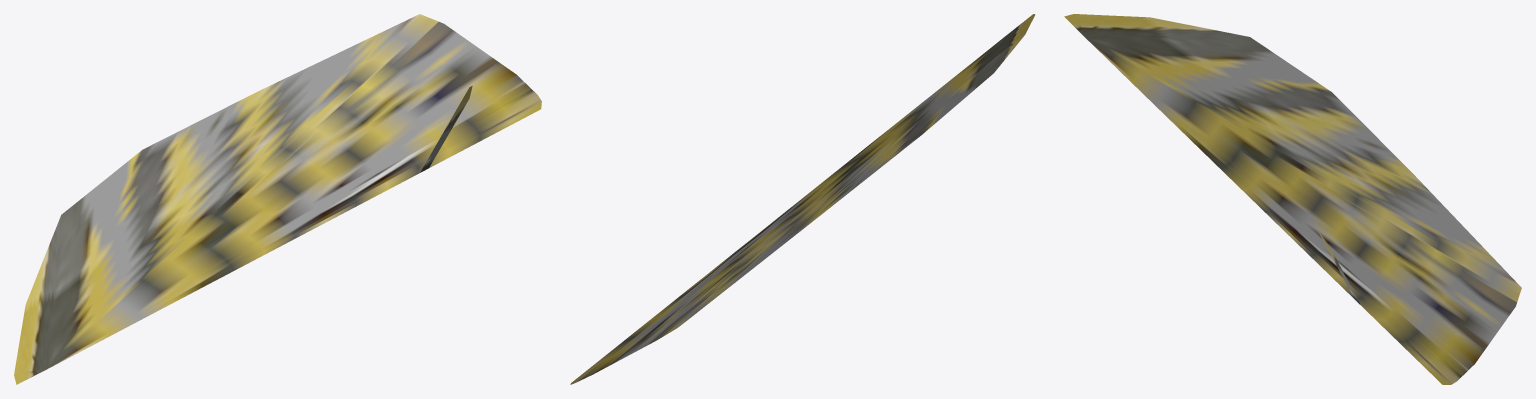
File: guard-center.glb
3 renders of one model, left to right at view 1: azimuth 30°, elevation 25°; view 2: azimuth 210°, elevation 25°; view 3: azimuth 270°, elevation 25°, orthographic. The views are drawn at different scales.
Parts seen in each view (by area): view 1: center-panel-2, center-panel-1; view 2: center-panel-2; view 3: center-panel-2.
Boxes of the visible parts, <box> form: center-panel-2: <box>14,14,541,384</box>; center-panel-1: <box>420,86,472,172</box>; center-panel-2: <box>570,14,1035,384</box>; center-panel-2: <box>1064,14,1521,384</box>.
Bounding box in the file's own units: 4.08 × 0.6352 × 2.54.
